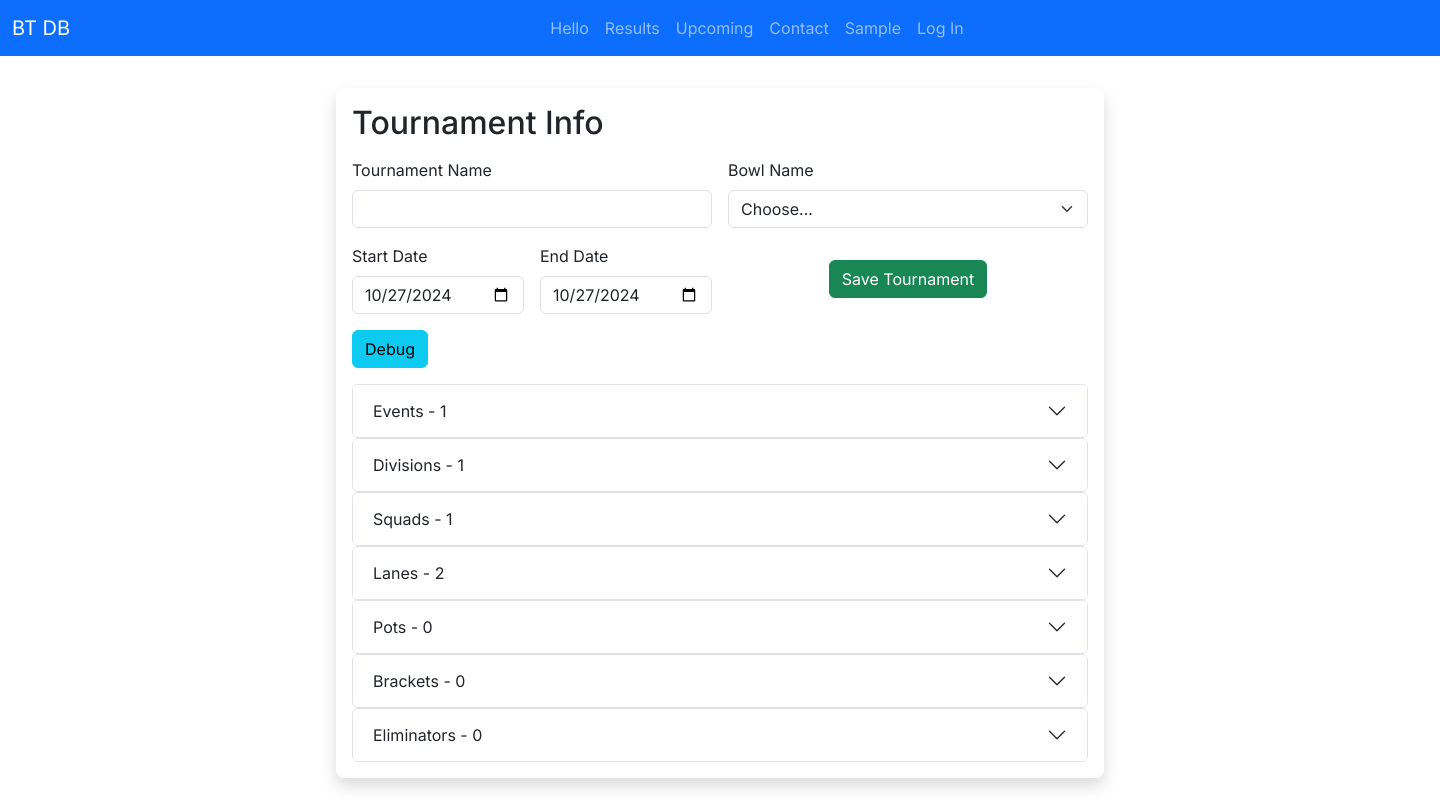
Test: TmntDataPage - Pots Component › click the pot type radio buttons › render the pot type radio buttons, should all be unchecked
Step 1. Click the button "Pots - 0" → point(398, 627), box [353,601,1087,653]
(page scrolled)
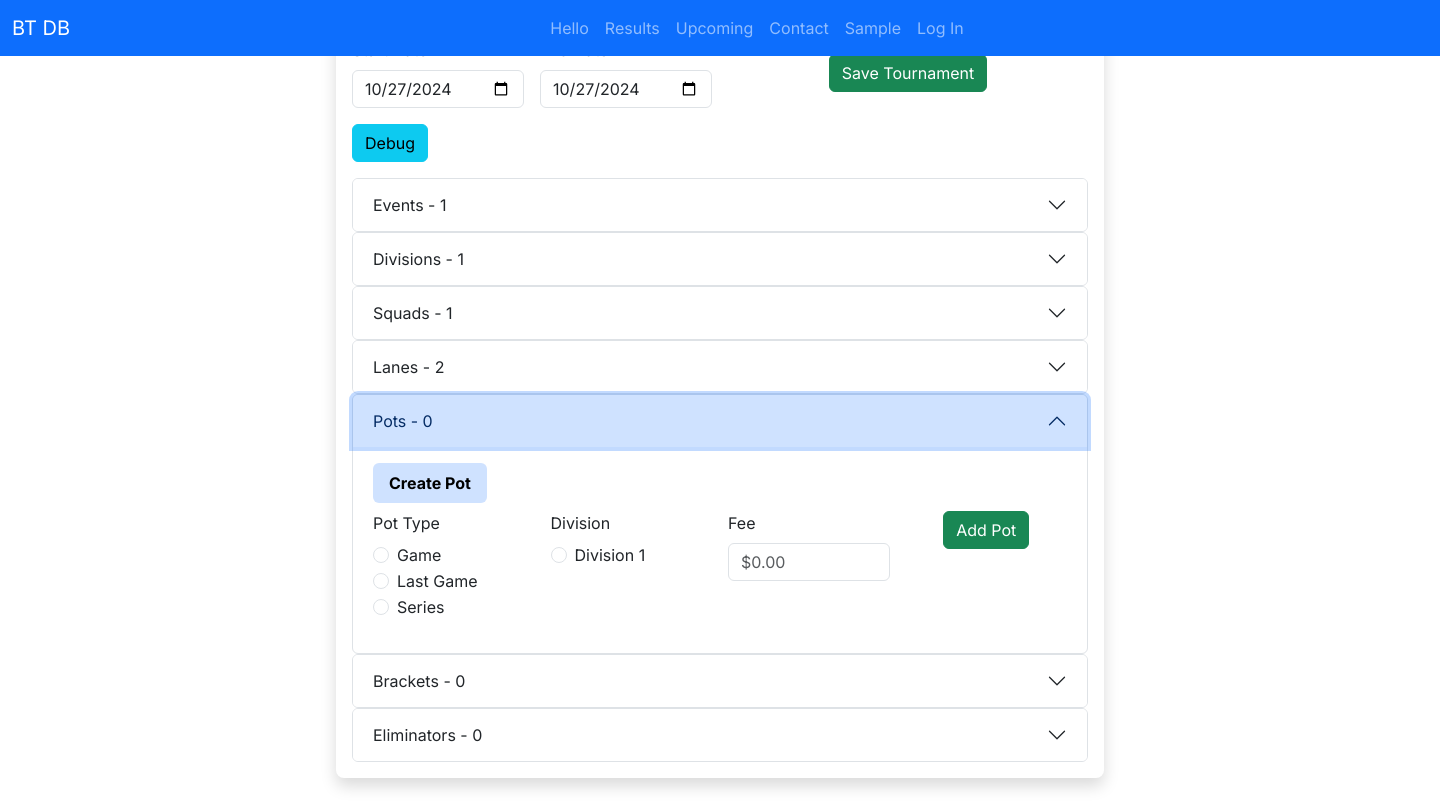
Now the number of fields labelled "Game" is 2
Now the radio button labelled "Game" is not checked, box [373,547,389,563]
Now the radio button labelled "Last Game" is not checked, box [373,573,389,589]
